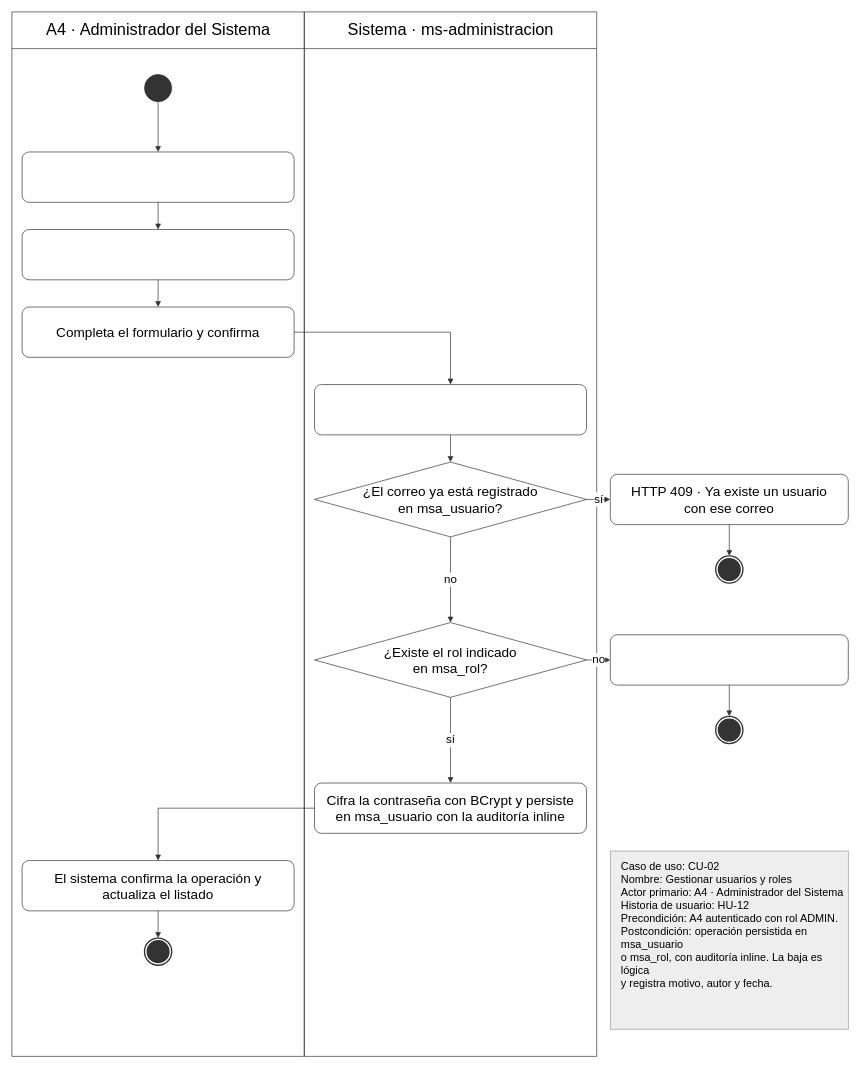
Some shapes in this 860 by 1068 pixel diagram are drawn without their labels. Each missing label, with the centre of its shape:
Accede al módulo «Administración»: (x=157, y=176)
Elige la acción: alta, modificación, baja lógica o cambio de rol: (x=157, y=254)
HTTP 404 · Rol no encontrado: (x=729, y=659)
Recibe la petición sobre /api/usuarios y resuelve el solicitante desde el JWT: (x=450, y=409)
